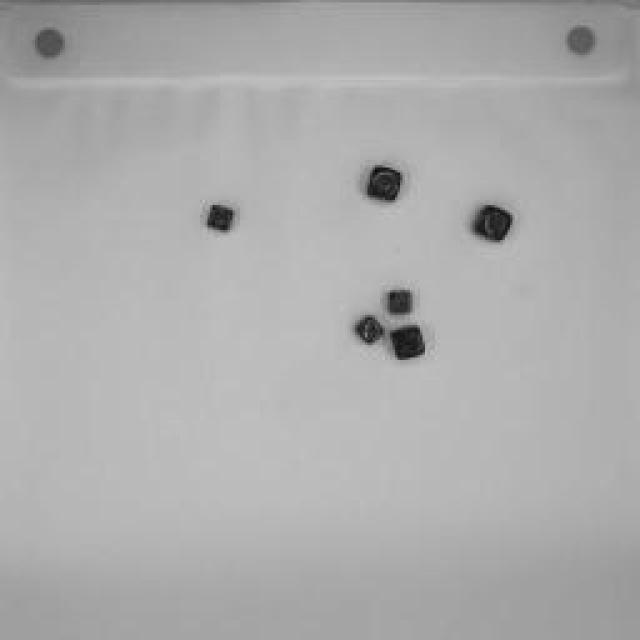dice_1: (360, 161, 408, 209), (201, 201, 239, 239)
dice_2: (466, 201, 519, 249), (389, 321, 431, 364)
dice_5: (349, 311, 389, 349), (381, 286, 419, 322)
